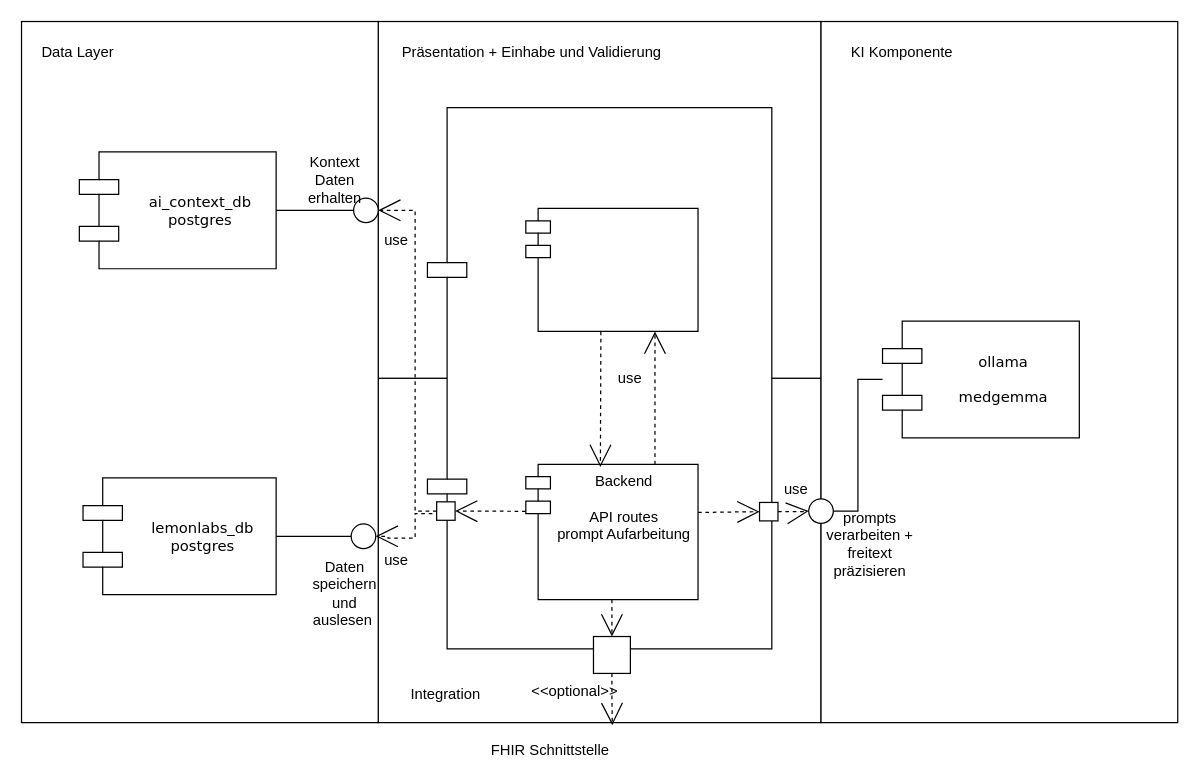
This 1199x781 diagram has some shape labels left out. The shapes that lost their labels are listed below. From the top down, each one's box as (x1, y1, x2, y2) in pixels, then its label:
(525, 207, 698, 331): Frontend react UI
(426, 106, 772, 649): next.js application
